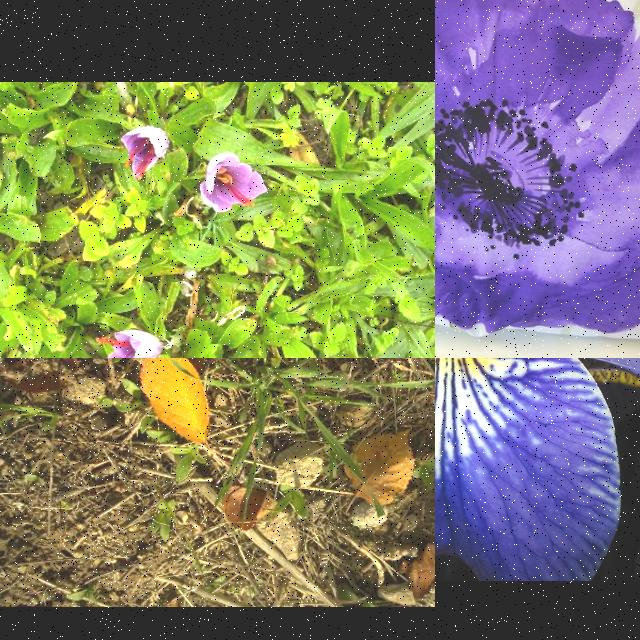flower: (200, 154, 270, 212), (123, 128, 169, 180), (96, 331, 164, 358)
